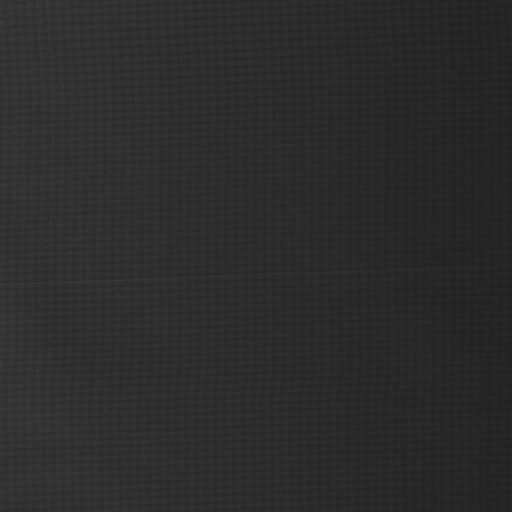defect: (2, 260, 512, 289)
